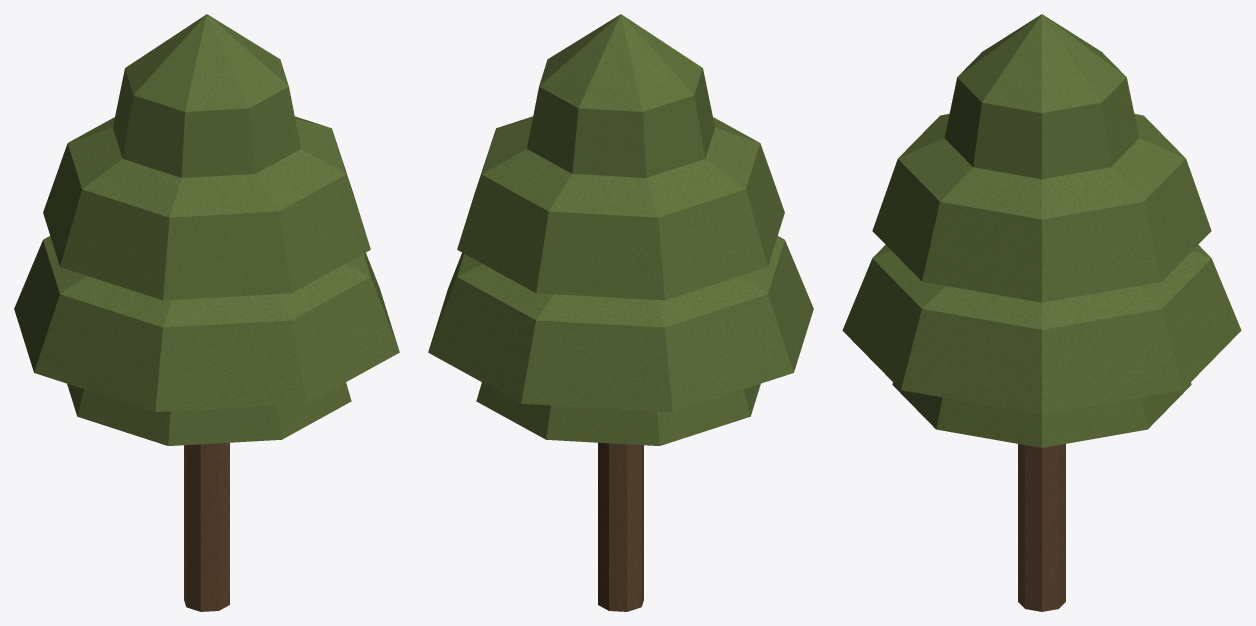
Rendered from neem_tree.glb.
The picture shows the model from 3 angles, left to right: view 1: azimuth 30°, elevation 25°; view 2: azimuth 150°, elevation 25°; view 3: azimuth 270°, elevation 25°; orthographic projection.
Parts seen in each view (by area): view 1: NeemLikeTree; view 2: NeemLikeTree; view 3: NeemLikeTree.
Boxes of the visible parts, x1,y1,x2,y2 form: NeemLikeTree: (14, 14, 399, 611); NeemLikeTree: (428, 14, 813, 611); NeemLikeTree: (842, 14, 1241, 611).
Size of the model in its own units: 4 by 6.5 by 4.
Materials: 1 (1 with a texture image).
